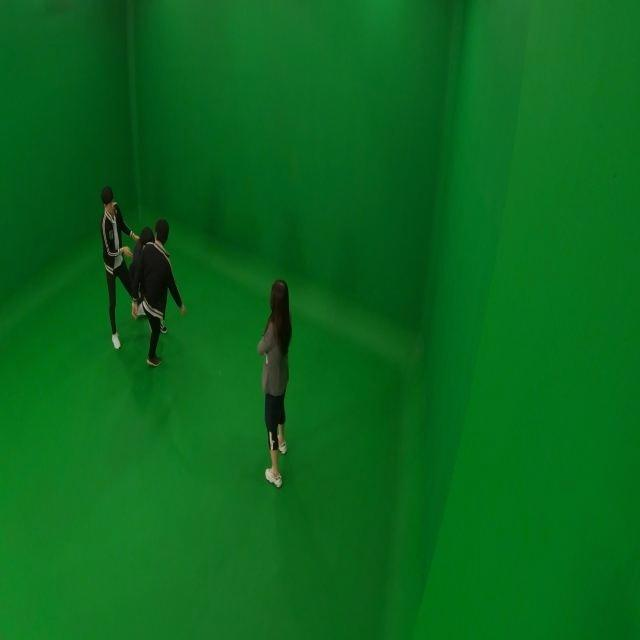fight: (98, 183, 183, 367)
non-fight: (253, 277, 296, 489)
